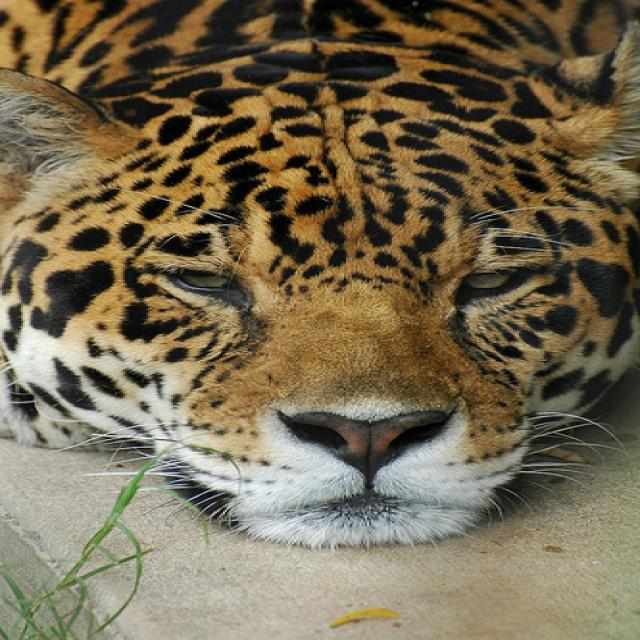Leopard: (0, 0, 634, 543)
